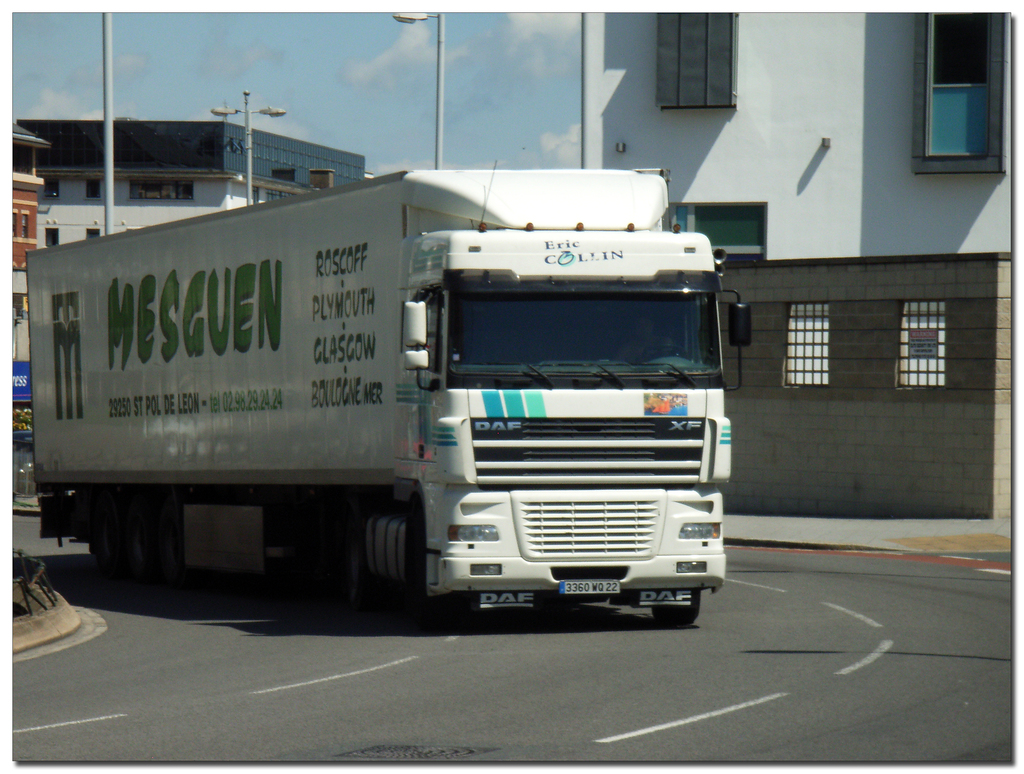truck: (30, 137, 767, 672)
